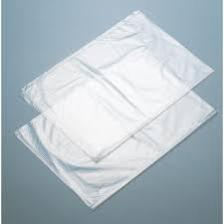plastic: (15, 46, 218, 212), (21, 10, 213, 161)
